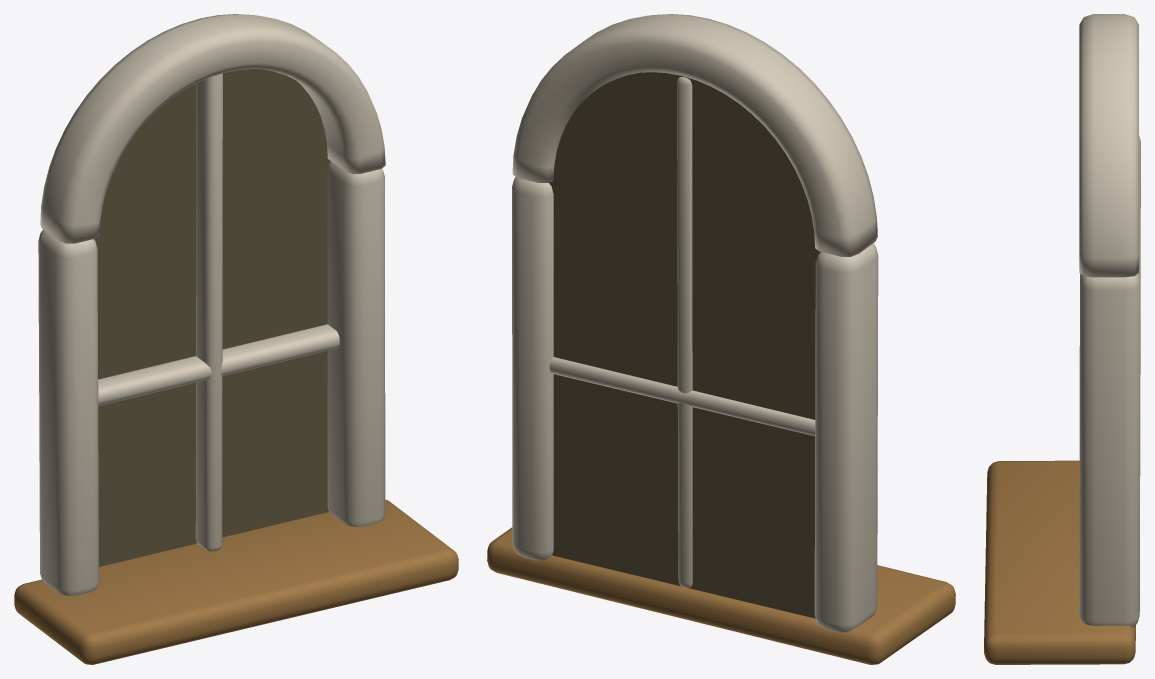
File: tg_window_arch.glb
3 views of the same model, side by side, from view 1: azimuth 30°, elevation 25°; view 2: azimuth 150°, elevation 25°; view 3: azimuth 270°, elevation 25° (orthographic). The views are drawn at different scales.
Visible parts, largest first — view 1: window_tg_arch, Glow; view 2: Glow, window_tg_arch; view 3: window_tg_arch.
Boxes of the visible parts, x1,y1,x2,y2 form: window_tg_arch: (14, 14, 458, 664); Glow: (94, 69, 330, 566); Glow: (549, 72, 820, 618); window_tg_arch: (487, 14, 955, 664); window_tg_arch: (984, 14, 1140, 664).
Size of the model in its own units: 1.13 by 1.6 by 0.4143.
